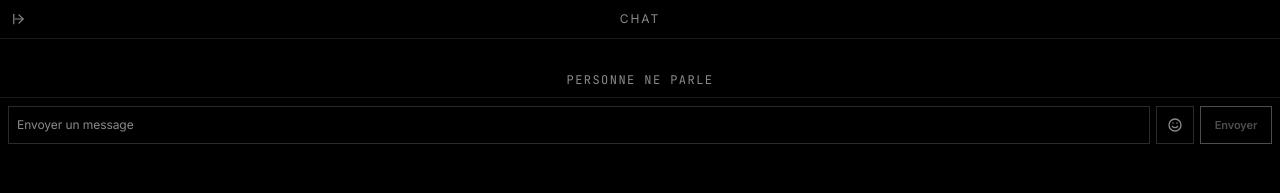
Scenario: Chat · commandes de modération › /slow 30 règle le slow mode à 30 secondes via chat_set_settings
Expected: the text "personne ne parle" is shown, [566, 72, 713, 88]
Type "/slow 30" into the field. click: (579,125)
box: [8, 106, 1150, 144]
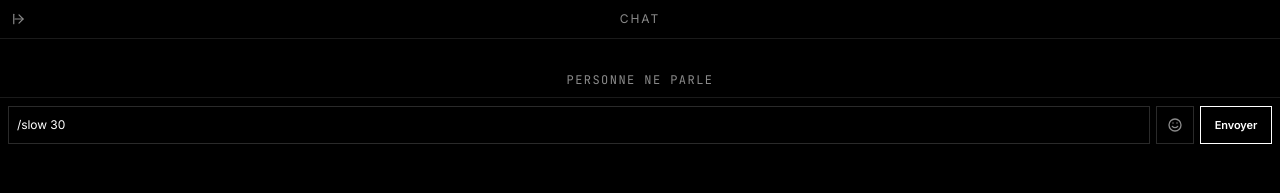
Click the button "Envoyer". click: (1236,125)
box: [1200, 106, 1272, 144]
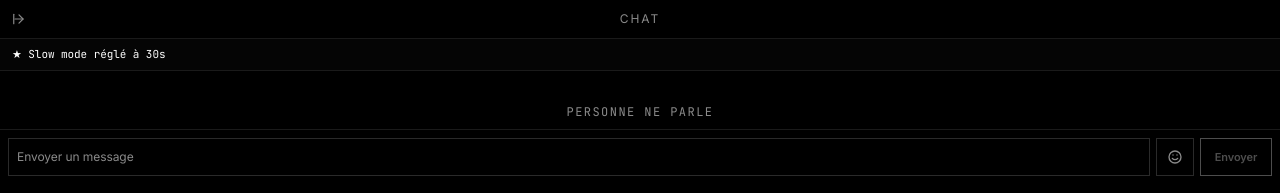
Expected: the text "★ Slow mode réglé à 30s" is shown, [0, 39, 1279, 71]
